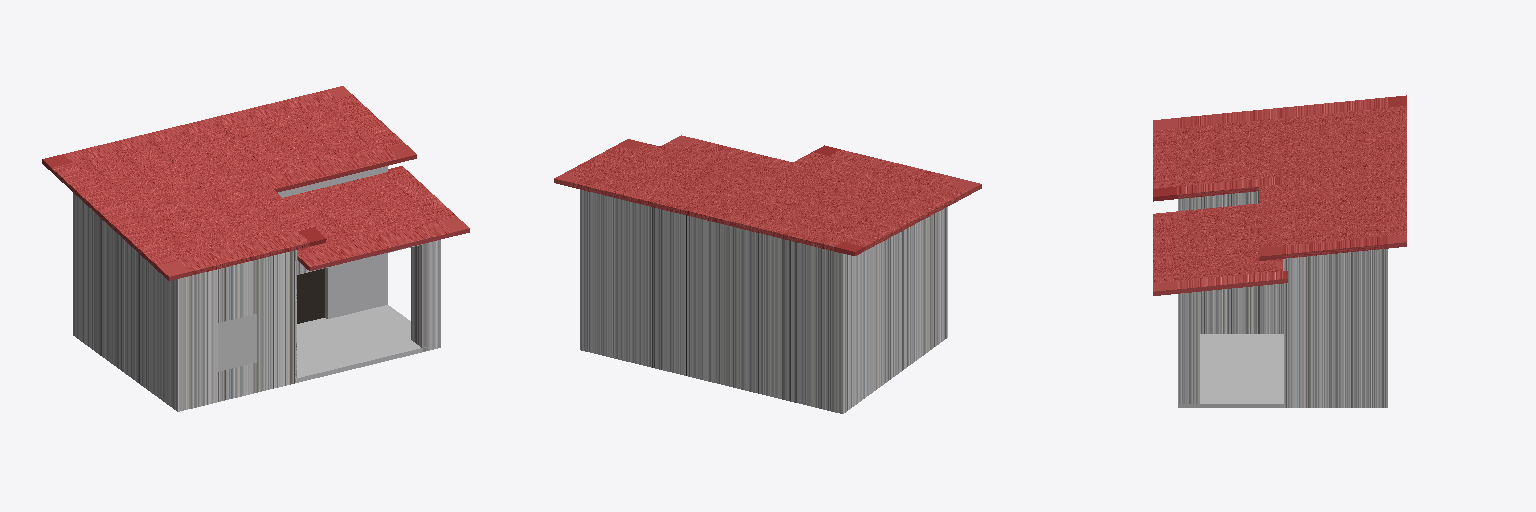
3 views of the same model, side by side, from view 1: azimuth 30°, elevation 25°; view 2: azimuth 150°, elevation 25°; view 3: azimuth 270°, elevation 25° (orthographic).
Visible parts, largest first — view 1: Plano; view 2: Plano; view 3: Plano.
Boxes of the visible parts, x1,y1,x2,y2 form: Plano: [42, 86, 469, 411]; Plano: [554, 135, 981, 413]; Plano: [1153, 95, 1406, 407].
Size of the model in its own units: 14.27 by 7.9 by 10.45.
4 materials, 3 textured.